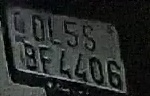0: (89, 56, 105, 87)
4: (73, 52, 88, 82), (57, 52, 72, 79)
5: (64, 20, 79, 50)
6: (107, 56, 123, 90)
B: (20, 38, 40, 72)
D: (29, 14, 47, 42)
F: (38, 42, 52, 74)
L: (45, 17, 63, 46)
S: (82, 23, 98, 54)
